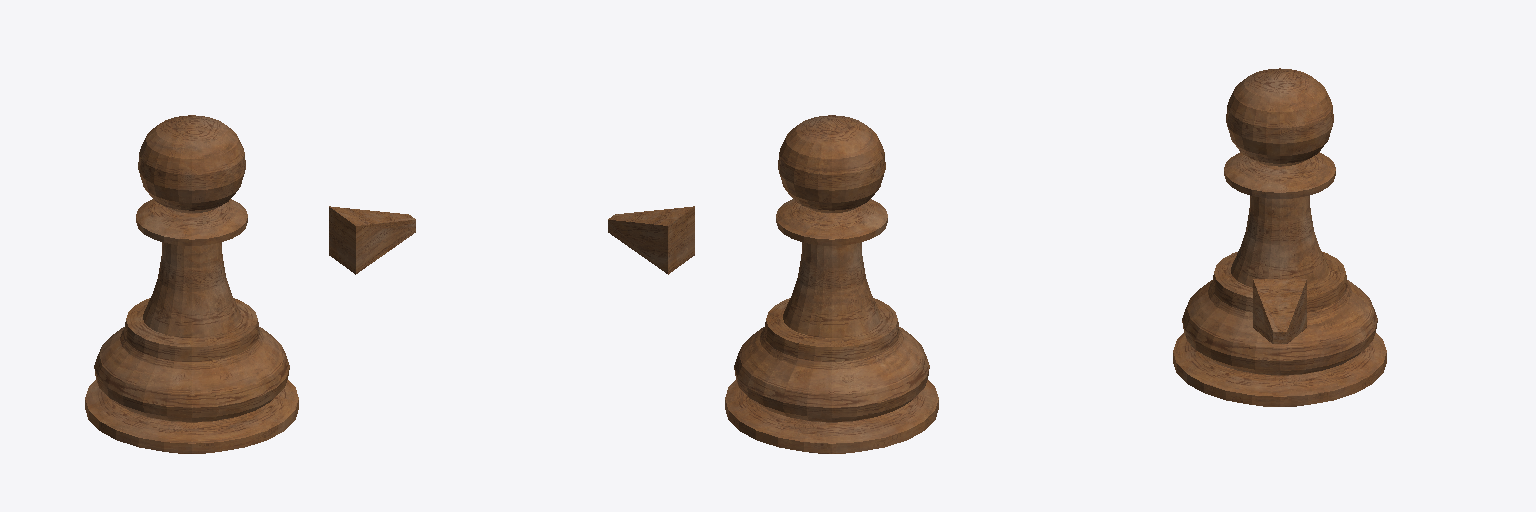
3 renders of one model, left to right at view 1: azimuth 30°, elevation 25°; view 2: azimuth 150°, elevation 25°; view 3: azimuth 270°, elevation 25°, orthographic.
Parts seen in each view (by area): view 1: Cube; view 2: Cube; view 3: Cube.
Boxes of the visible parts, <box> form: Cube: <box>85,115,415,453</box>; Cube: <box>608,115,938,453</box>; Cube: <box>1173,68,1386,406</box>.
Bounding box in the file's own units: 2.14 × 1.97 × 1.26.
Materials: 1 (1 with a texture image).